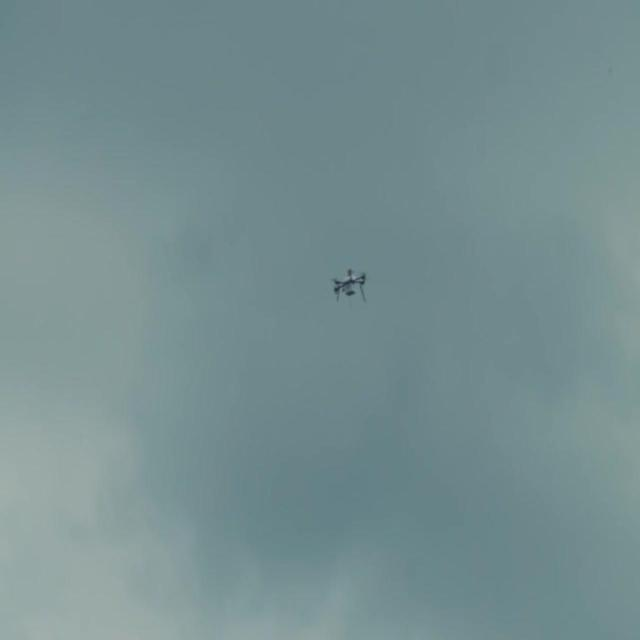drone: (330, 266, 368, 315)
